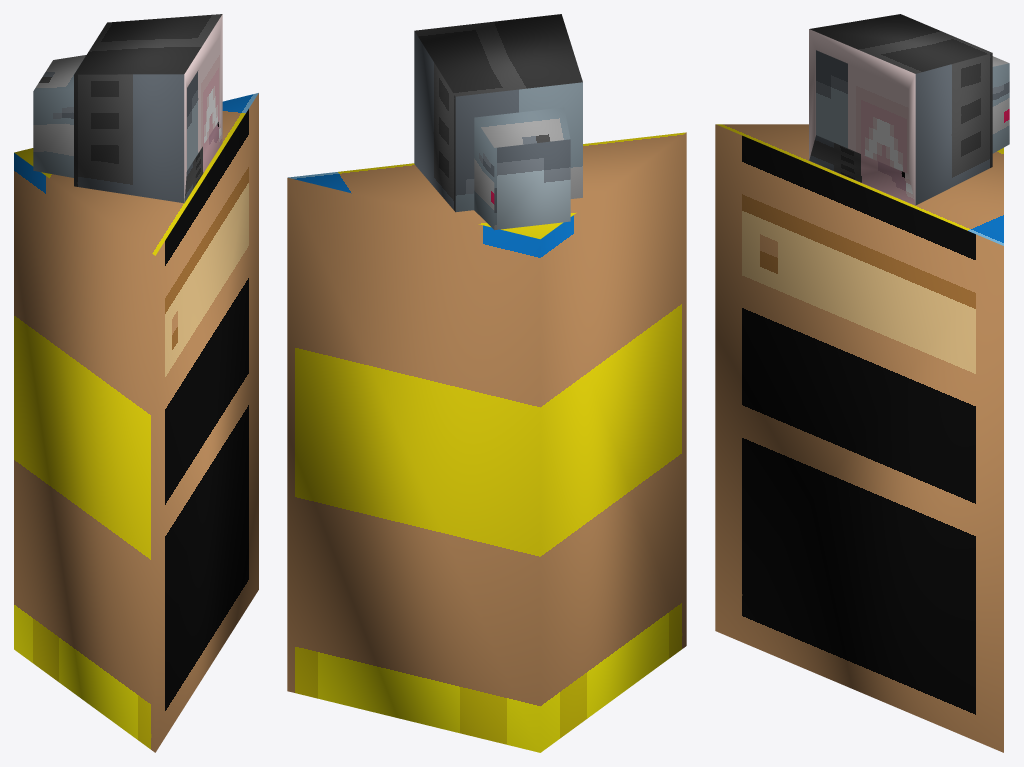
3 renders of one model, left to right at view 1: azimuth 30°, elevation 25°; view 2: azimuth 150°, elevation 25°; view 3: azimuth 270°, elevation 25°, orthographic. The views are drawn at different scales.
Parts seen in each view (by area): view 1: 3757kg_sh0_04; view 2: 3757kg_sh0_04; view 3: 3757kg_sh0_04.
Part boxes in pixels (<box>): 3757kg_sh0_04: <box>14,14,258,752</box>; 3757kg_sh0_04: <box>287,14,686,752</box>; 3757kg_sh0_04: <box>715,14,1009,752</box>.
Bounding box in the file's own units: 0.9205 × 2.21 × 0.9205.
Materials: 3 (3 with a texture image).
